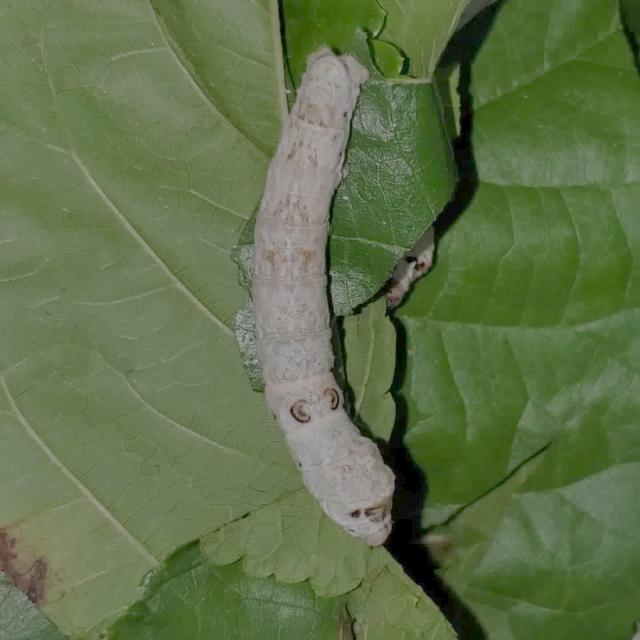Healthy: (229, 20, 419, 573)
